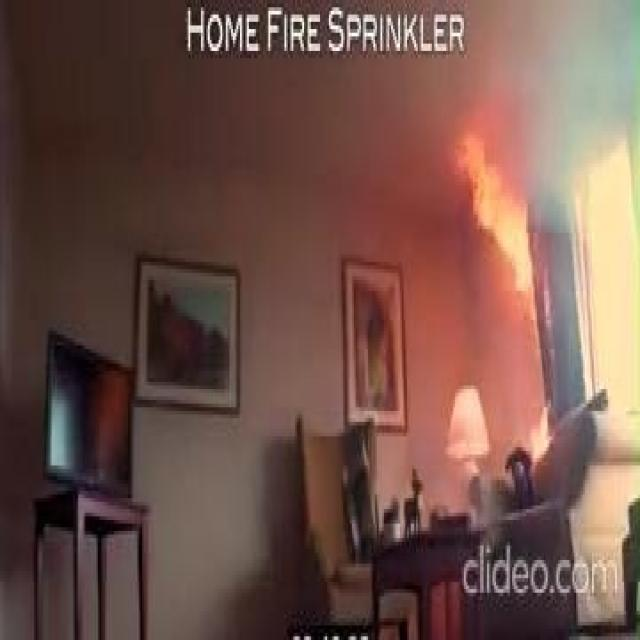fire: (452, 106, 558, 334)
